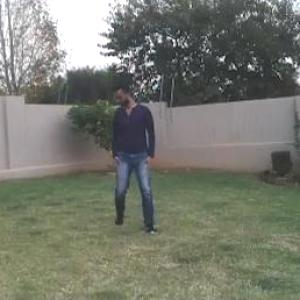follow: (113, 76, 156, 221)
